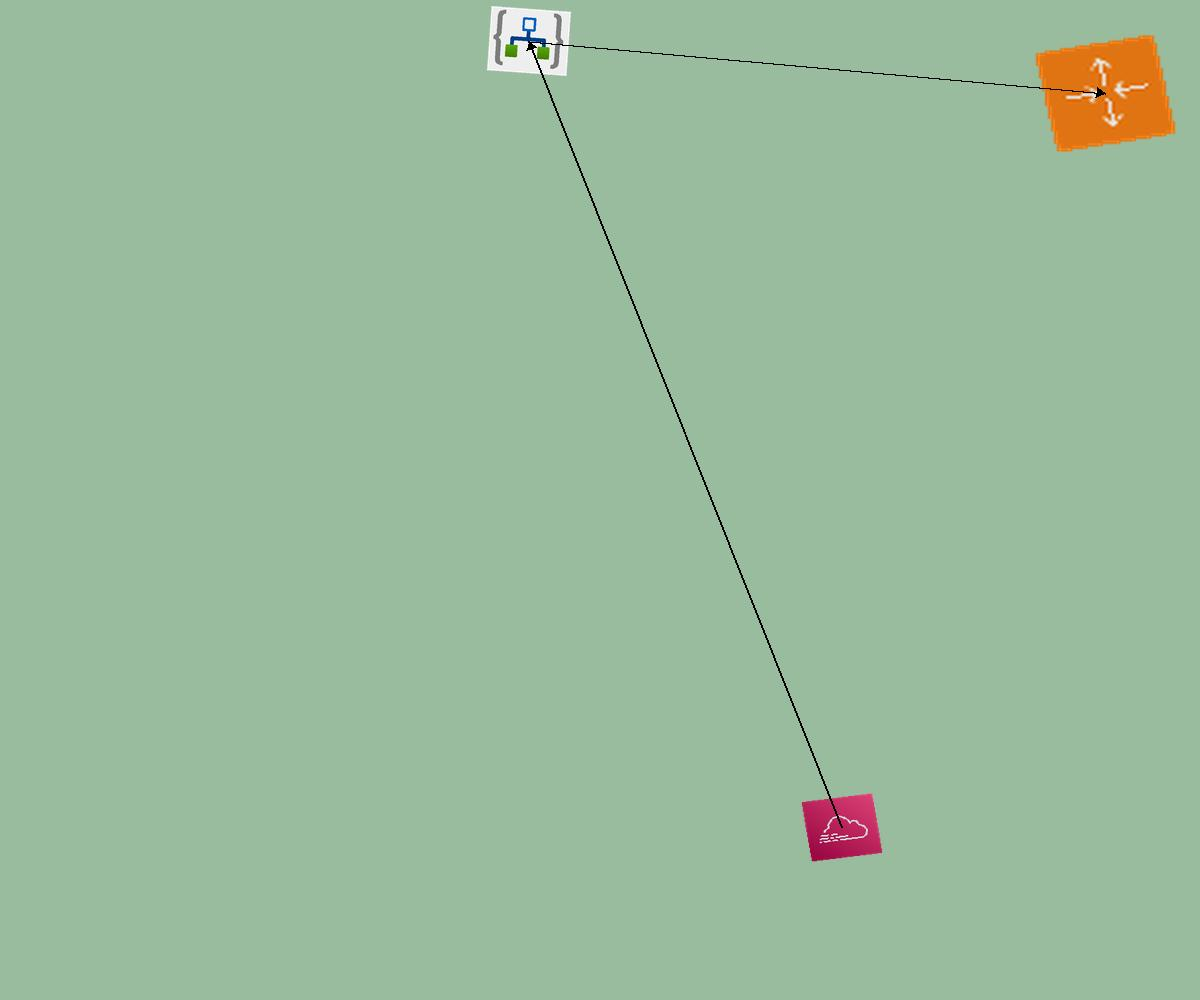AWS-CloudTrail: (801, 793, 883, 862)
AWS-Scaling-group: (1033, 33, 1178, 154)
Azure_integration-204-Logic-Apps: (487, 6, 571, 76)
